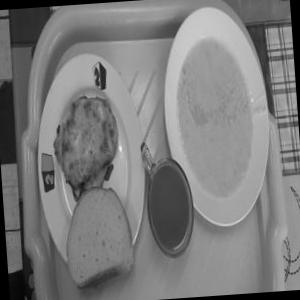bread: (55, 180, 147, 298)
cheese_sandwich: (40, 84, 132, 204)
coffee: (134, 147, 209, 266)
porridge: (166, 29, 267, 218)
